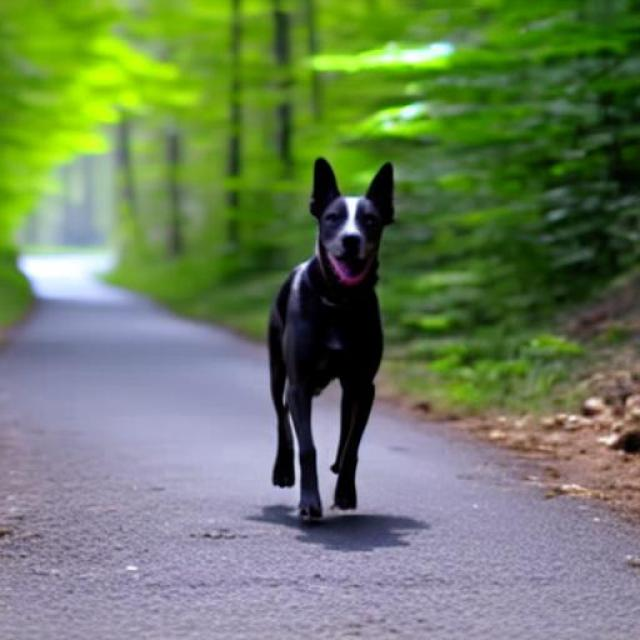Dog: (267, 156, 397, 520)
